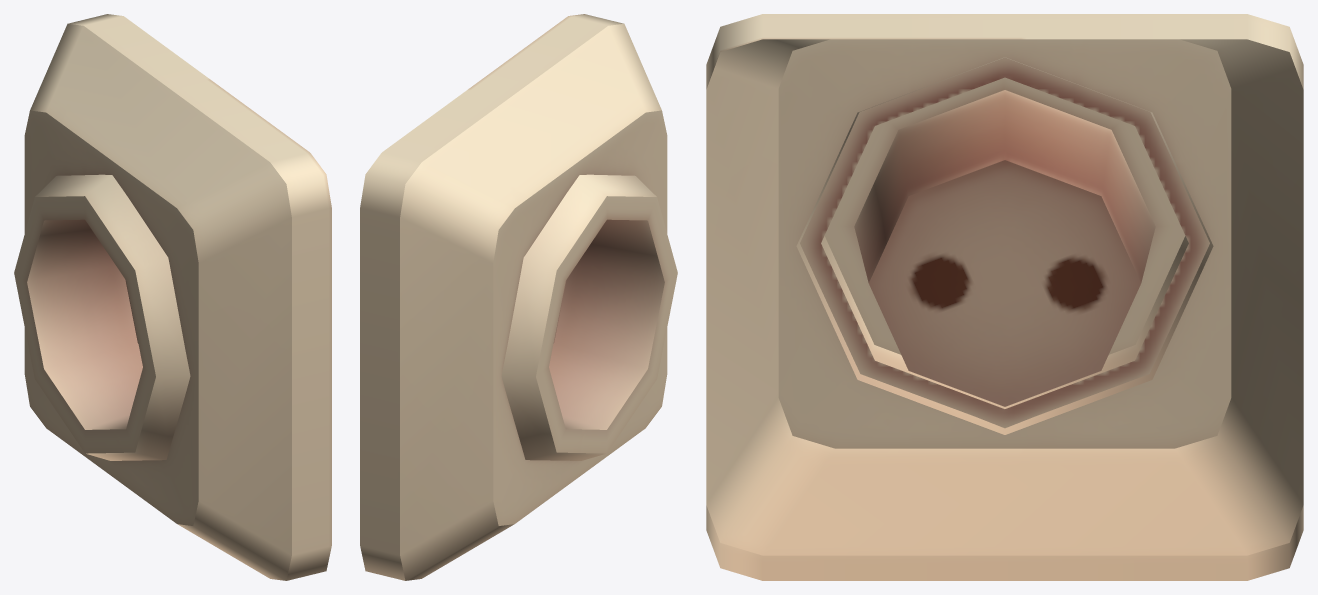
Rendered from socket_01.fbx.
The picture shows the model from 3 angles, left to right: view 1: azimuth 30°, elevation 25°; view 2: azimuth 150°, elevation 25°; view 3: azimuth 270°, elevation 25°; orthographic projection. The views are drawn at different scales.
Parts seen in each view (by area): view 1: socket_01_ready; view 2: socket_01_ready; view 3: socket_01_ready.
Boxes of the visible parts, x1,y1,x2,y2 form: socket_01_ready: [14, 14, 331, 580]; socket_01_ready: [360, 14, 677, 580]; socket_01_ready: [706, 14, 1303, 580].
Bounding box in the file's own units: 6.32 × 19.06 × 19.06.
